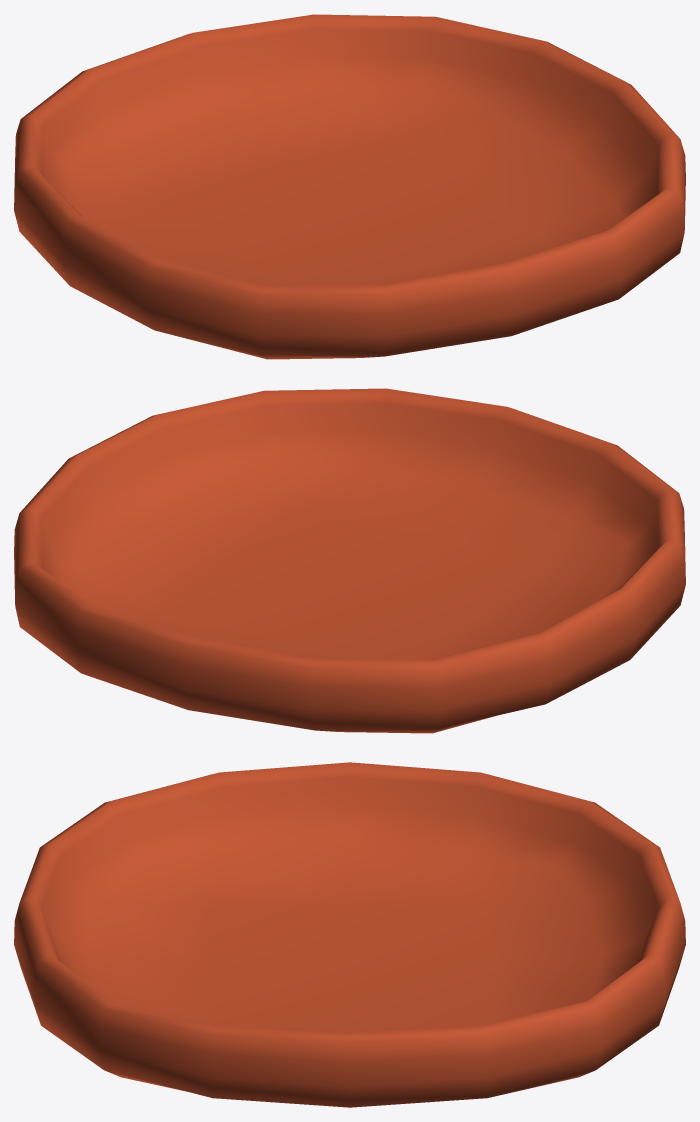
File: LargeDish.fbx
3 renders of one model, top to bottom at view 1: azimuth 30°, elevation 25°; view 2: azimuth 150°, elevation 25°; view 3: azimuth 270°, elevation 25°, orthographic.
Parts seen in each view (by area): view 1: LargeDish; view 2: LargeDish; view 3: LargeDish.
Boxes of the visible parts, left/top/right/bottom form: LargeDish: left=14, top=14, right=685, bottom=359; LargeDish: left=14, top=388, right=685, bottom=733; LargeDish: left=14, top=762, right=685, bottom=1107.
Bounding box in the file's own units: 33.27 × 5.45 × 33.27.
